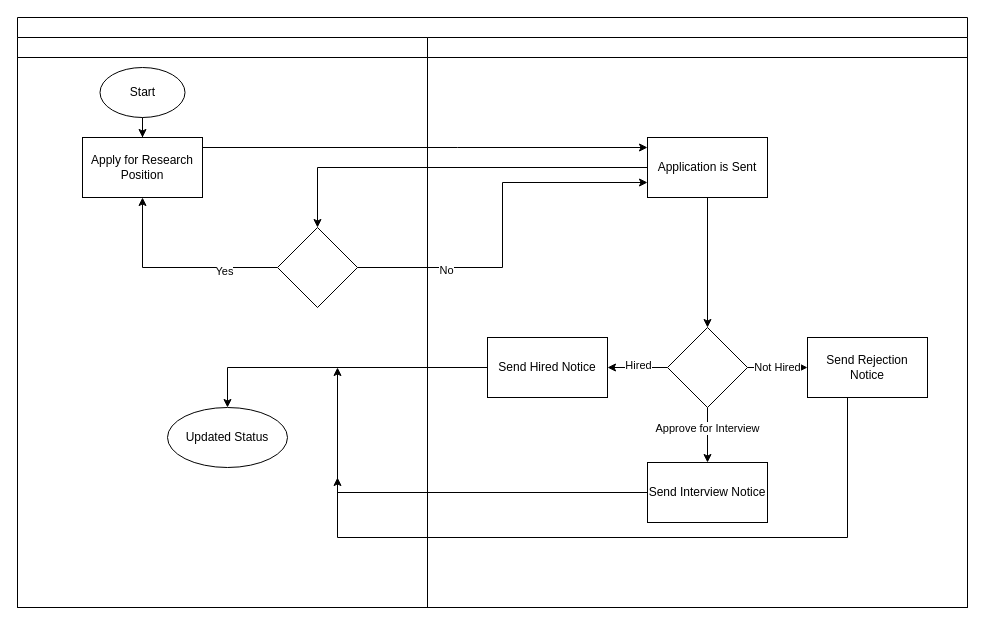
Some shapes in this 985 by 625 pixel diagram are drawn without their labels. Each missing label, with the box of its shape:
Decision?: (666, 326, 748, 408)
Faculty: (426, 36, 968, 608)
Retract?: (276, 226, 358, 308)
Student: (16, 36, 428, 608)
